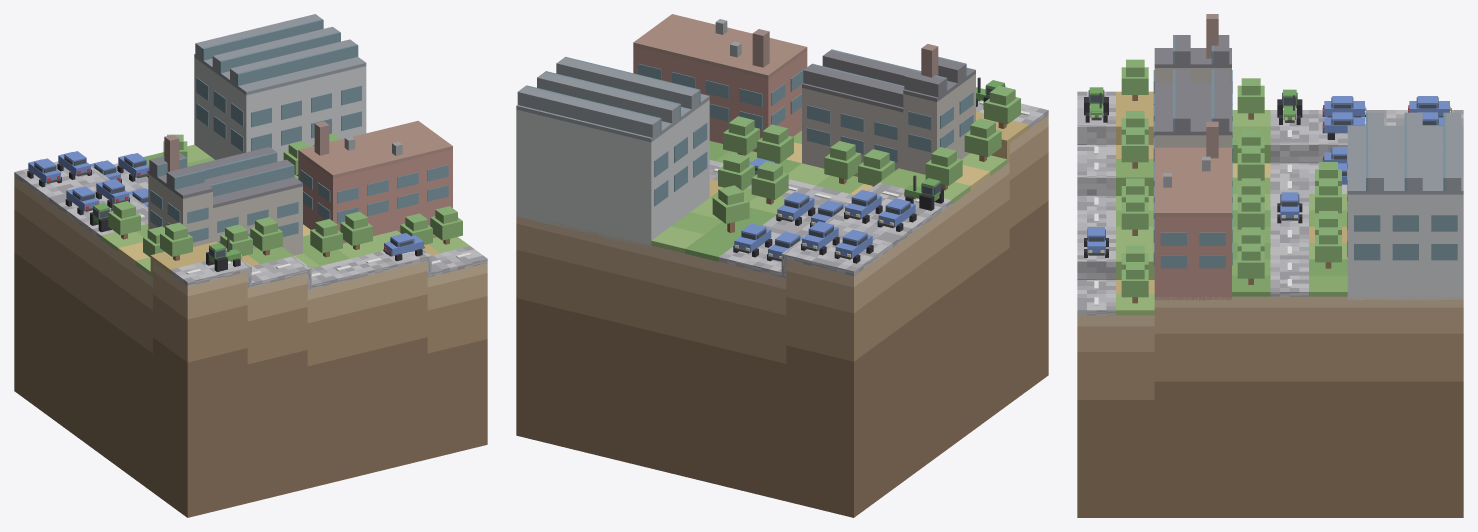
Rendered from block_13_permeable_40.glb.
The picture shows the model from 3 angles, left to right: view 1: azimuth 30°, elevation 25°; view 2: azimuth 150°, elevation 25°; view 3: azimuth 270°, elevation 25°; orthographic projection. The views are drawn at different scales.
Parts seen in each view (by area): view 1: Patch_LowerLeft_b13_PP, Factories_LowerLeft_b13_PP, Roads_LowerLeft_b13_PP, Ground_LowerLeft_b13_PP, Parking_LowerLeft_b13_PP, Asset_Tree_Round.114_PP, Asset_Tree_Round.111_PP, Asset_Tree_Round.093_PP, Asset_Tree_Round.117_PP, Asset_Tree_Round.113_PP, Asset_Tree_Round.115_PP, Asset_Car.007_PP (+8 smaller); view 2: Patch_LowerLeft_b13_PP, Factories_LowerLeft_b13_PP, Ground_LowerLeft_b13_PP, Parking_LowerLeft_b13_PP, Roads_LowerLeft_b13_PP, Asset_Tree_Round.019_PP, Asset_Tree_Round.086_PP, Asset_Tree_Round.105_PP, Asset_Tree_Round.111_PP, Asset_Tree_Round.095_PP, Asset_Tree_Round.096_PP, Asset_Tree_Round.093_PP (+10 smaller); view 3: Patch_LowerLeft_b13_PP, Factories_LowerLeft_b13_PP, Roads_LowerLeft_b13_PP, Ground_LowerLeft_b13_PP, Parking_LowerLeft_b13_PP, Asset_Tree_Round.093_PP, Asset_Tree_Round.099_PP, Asset_Tree_Round.113_PP, Asset_Tree_Round.117_PP, Asset_Tree_Round.111_PP, Asset_Tree_Round.115_PP, Asset_Tree_Round.089_PP (+19 smaller).
Part boxes in pixels (left/top/right/bottom): Patch_LowerLeft_b13_PP: left=14, top=176, right=487, bottom=517; Factories_LowerLeft_b13_PP: left=148, top=14, right=452, bottom=255; Roads_LowerLeft_b13_PP: left=83, top=207, right=487, bottom=290; Ground_LowerLeft_b13_PP: left=101, top=144, right=469, bottom=277; Parking_LowerLeft_b13_PP: left=14, top=161, right=148, bottom=226; Asset_Tree_Round.114_PP: left=310, top=219, right=342, bottom=257; Asset_Tree_Round.111_PP: left=160, top=222, right=192, bottom=260; Asset_Tree_Round.093_PP: left=108, top=201, right=140, bottom=239; Asset_Tree_Round.117_PP: left=430, top=206, right=462, bottom=244; Asset_Tree_Round.113_PP: left=250, top=217, right=282, bottom=255; Asset_Tree_Round.115_PP: left=340, top=211, right=372, bottom=249; Asset_Car.007_PP: left=383, top=233, right=424, bottom=261; Patch_LowerLeft_b13_PP: left=516, top=115, right=1048, bottom=517; Factories_LowerLeft_b13_PP: left=516, top=14, right=975, bottom=248; Ground_LowerLeft_b13_PP: left=651, top=111, right=1029, bottom=261; Parking_LowerLeft_b13_PP: left=718, top=202, right=931, bottom=278; Roads_LowerLeft_b13_PP: left=709, top=100, right=1048, bottom=218; Asset_Tree_Round.019_PP: left=712, top=185, right=749, bottom=232; Asset_Tree_Round.086_PP: left=751, top=161, right=788, bottom=204; Asset_Tree_Round.105_PP: left=964, top=118, right=1001, bottom=161; Asset_Tree_Round.111_PP: left=984, top=85, right=1020, bottom=128; Asset_Tree_Round.095_PP: left=824, top=141, right=861, bottom=184; Asset_Tree_Round.096_PP: left=757, top=124, right=793, bottom=163; Asset_Tree_Round.093_PP: left=925, top=147, right=962, bottom=190; Patch_LowerLeft_b13_PP: left=1077, top=296, right=1463, bottom=517; Factories_LowerLeft_b13_PP: left=1153, top=14, right=1463, bottom=300; Roads_LowerLeft_b13_PP: left=1077, top=91, right=1308, bottom=315; Ground_LowerLeft_b13_PP: left=1116, top=91, right=1347, bottom=315; Parking_LowerLeft_b13_PP: left=1309, top=110, right=1463, bottom=193; Asset_Tree_Round.093_PP: left=1237, top=78, right=1264, bottom=119; Asset_Tree_Round.099_PP: left=1237, top=243, right=1264, bottom=284; Asset_Tree_Round.113_PP: left=1121, top=127, right=1148, bottom=168; Asset_Tree_Round.117_PP: left=1121, top=262, right=1148, bottom=303; Asset_Tree_Round.111_PP: left=1121, top=59, right=1148, bottom=100; Asset_Tree_Round.115_PP: left=1121, top=194, right=1148, bottom=235; Asset_Tree_Round.089_PP: left=1315, top=227, right=1341, bottom=268.
Size of the model in its own units: 9.52 by 9.83 by 9.5.
